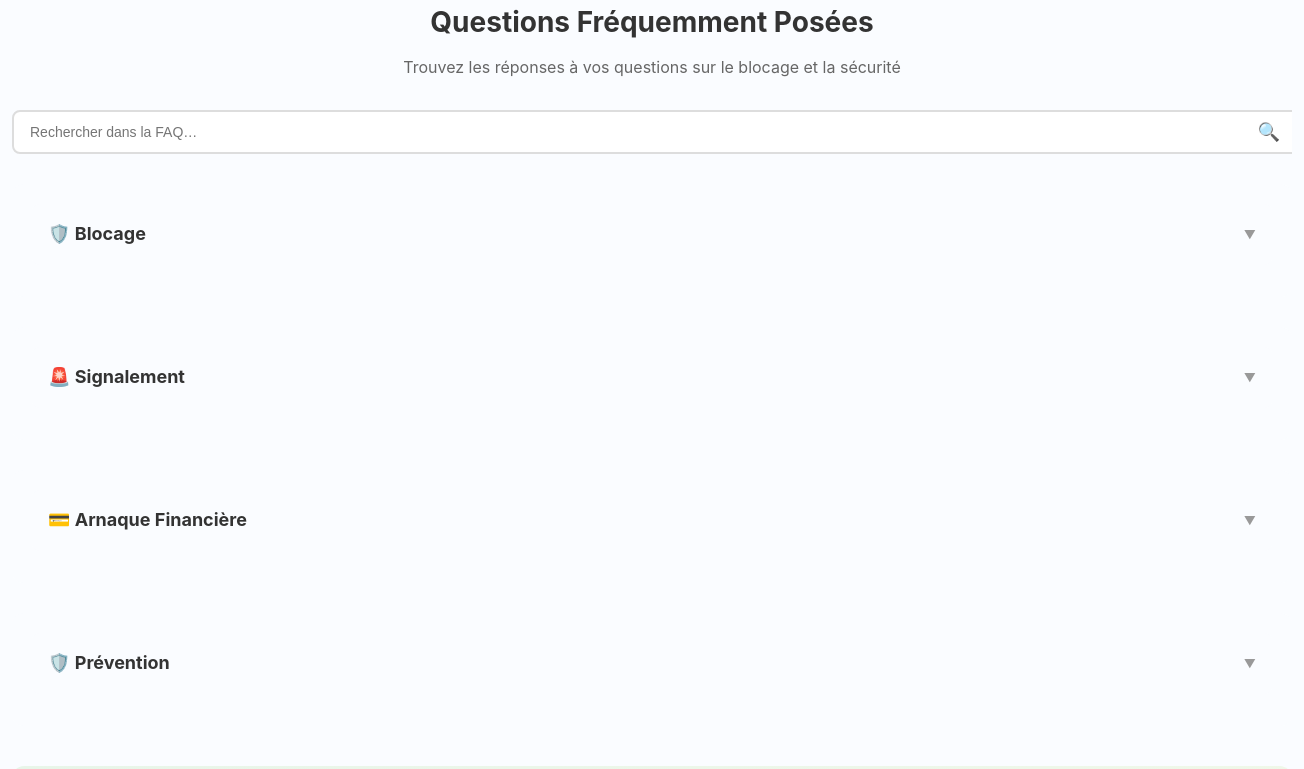
Test: FAQSection Component - Expanded Coverage › Category Display › should hide category items when clicked again
Click the button with class "category-header-toggle" showing "🛡️ Blocage ▼" at [97, 234], box [32, 204, 1272, 265]
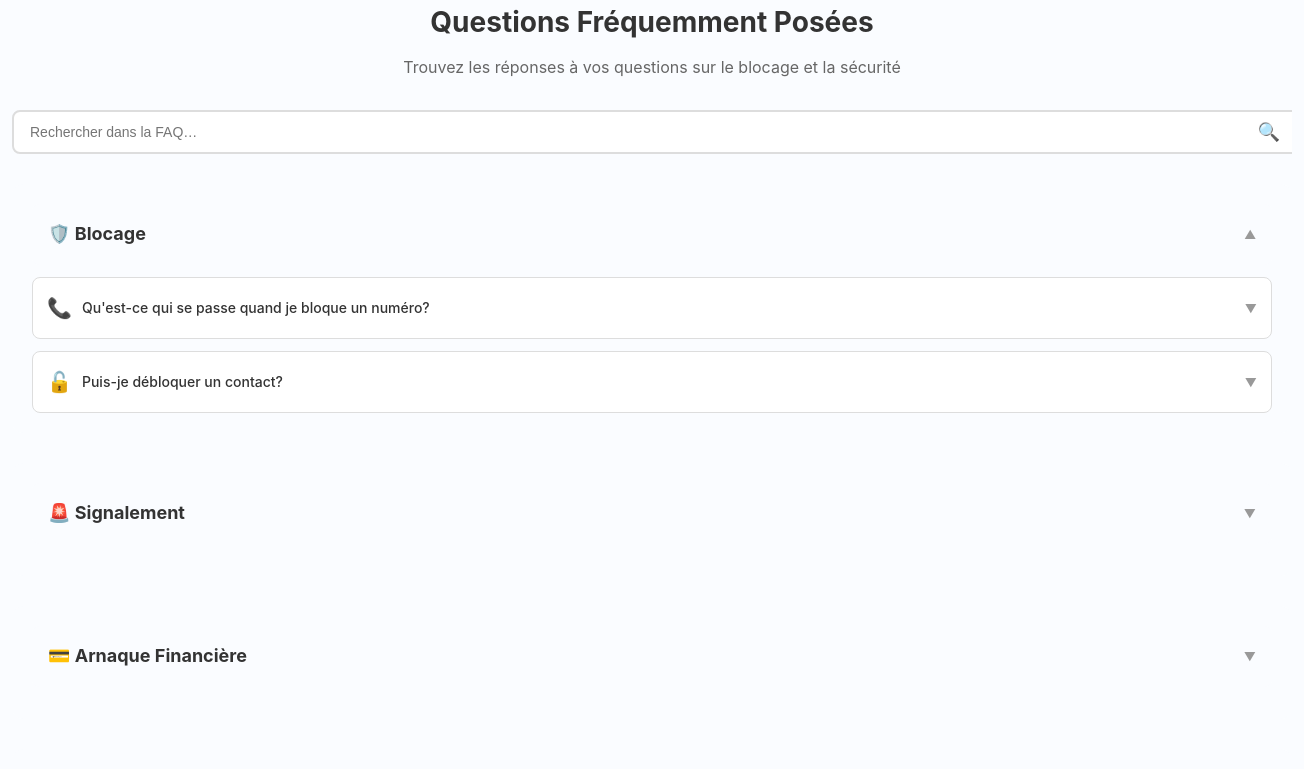
Check: the element with class "category-items" is shown, box [32, 277, 1272, 413]
Click the button with class "category-header-toggle" showing "🛡️ Blocage ▼" at [97, 234], box [32, 204, 1272, 265]
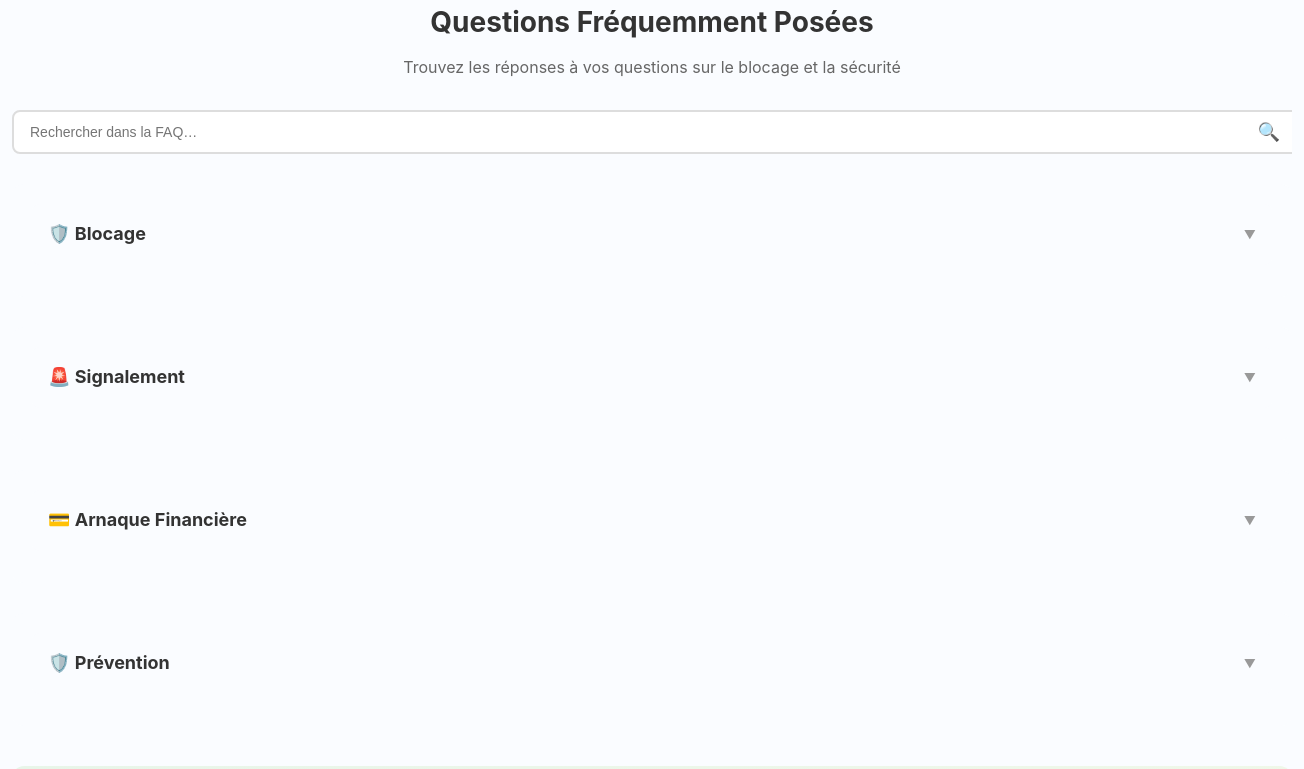
Check: the element with class "category-items" is gone
